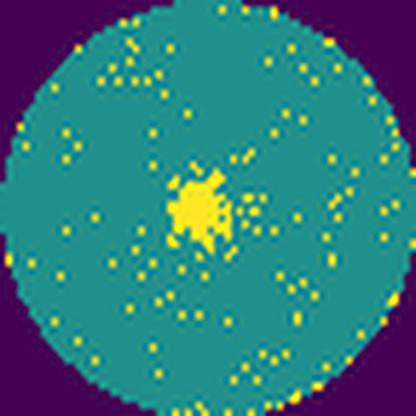Center: (164, 167, 235, 256)
